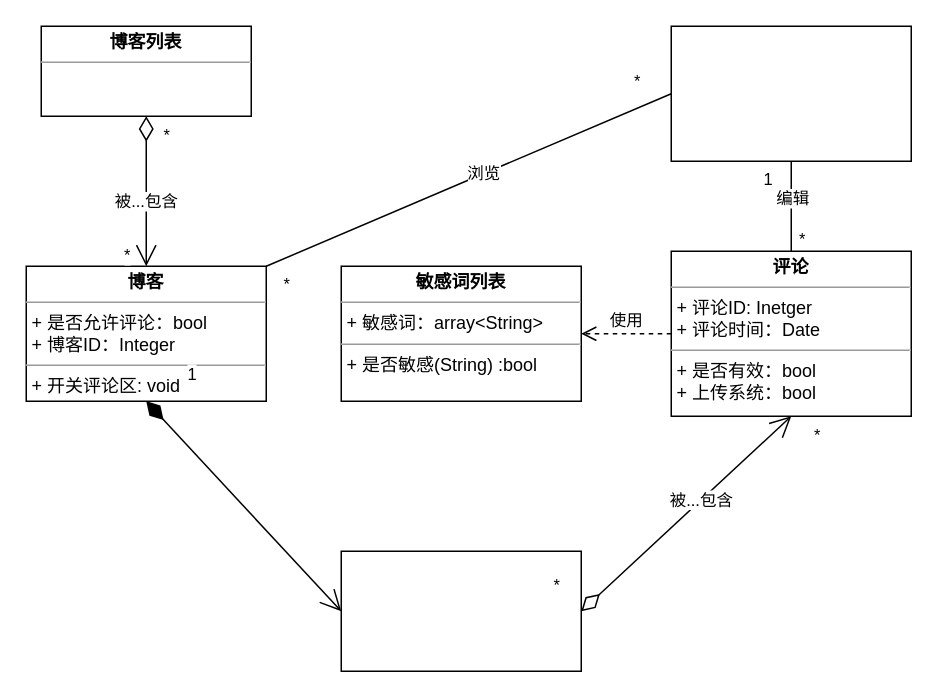
The diagram is 938 pixels wide and 698 high, and some of its shapes have lost their labels. Each missing label, with the centre of its shape:
"用户 + username: string + 编辑评论（）" belongs at (790,93).
"评论列表" belongs at (460,610).
